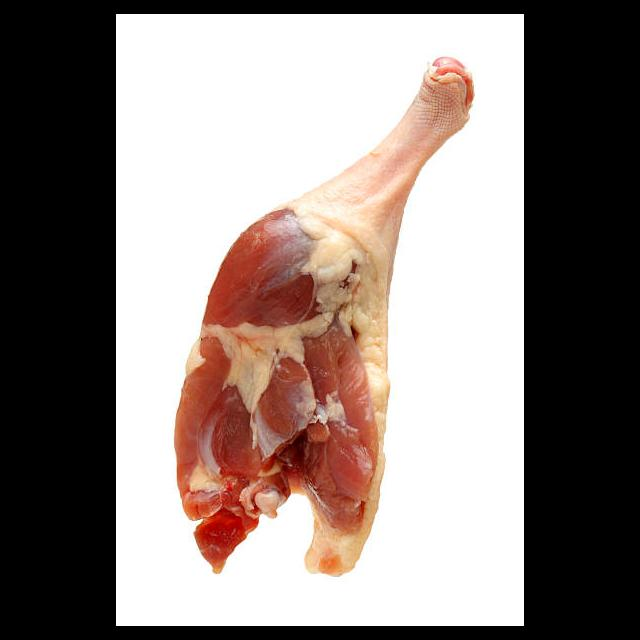chicken: (173, 56, 474, 579)
